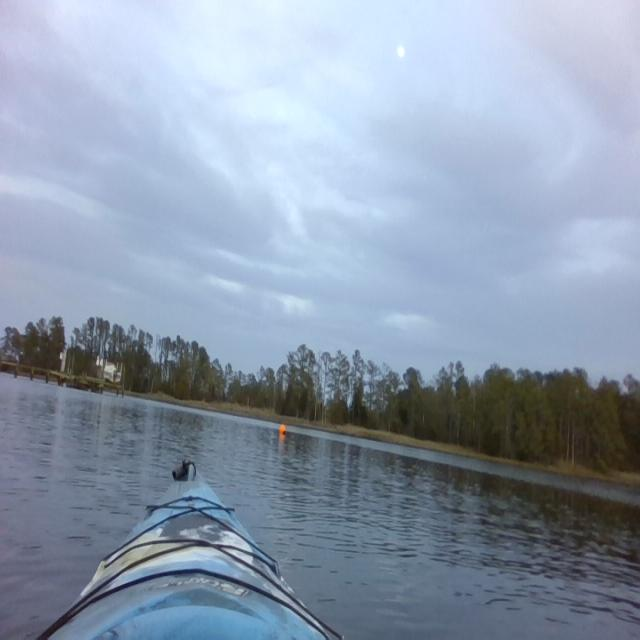Buoy: (278, 419, 286, 440)
